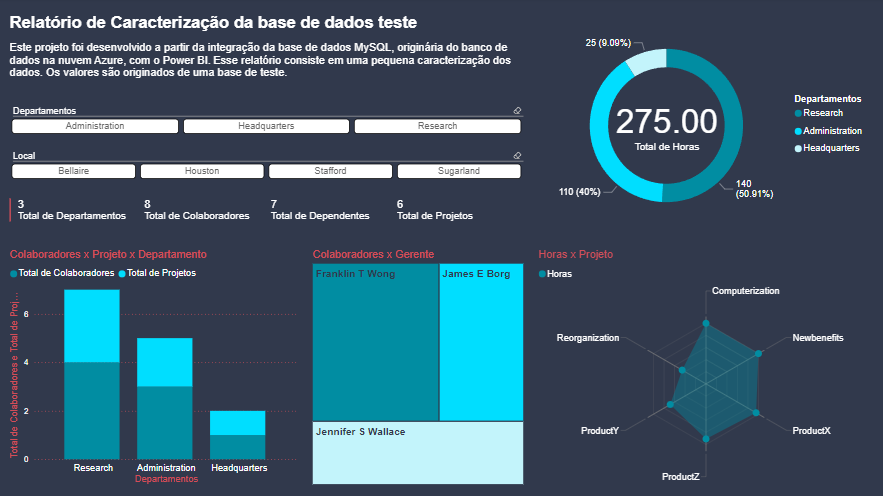

Layout of this report page (visuals, bound fields, positions):
{"tool":"powerbi","page":{"name":"Página 1","canvas":[1280,720],"ordinal":0},"visuals":[{"type":"treemap","title":"Colaboradores x Gerente","fields":{"Group":["employee_x_manager.Mesclado"],"Values":["employee_x_manager.Contagem"]},"box":[447.8,360,313.9,345.6],"z":0},{"type":"columnChart","title":"Colaboradores x Projeto x Departamento","fields":{"Y":["employee_x_departament.Employee","azure_company project.Pname"],"Category":["employee_x_departament.Dname"]},"box":[11.5,360,424.8,345.6],"z":1000},{"type":"ChicletSlicer1448559807354","fields":{"Category":["department_x_dept_location.Dname"]},"box":[11.5,149.8,750.2,59],"z":2000},{"type":"ChicletSlicer1448559807354","fields":{"Category":["department_x_dept_location.Dlocation"]},"box":[11.5,214.6,750.2,63.4],"z":3000},{"type":"textbox","box":[11.5,15.8,750.2,126.7],"z":4000},{"type":"multiRowCard","fields":{"Values":["azure_company departament.Dname","employee_x_departament.Employee","azure_company dependent.Dependent_name","azure_company project.Pname"]},"box":[11.5,283.7,750.2,67.7],"z":5000},{"type":"donutChart","fields":{"Y":["work_on_x_departament.Hours"],"Category":["work_on_x_departament.Dname"]},"box":[773.3,15.8,492.5,335.5],"z":6000},{"type":"card","fields":{"Values":["work_on_x_departament.Hours"]},"box":[864,119.5,198.7,125.3],"z":7000},{"type":"RadarChart1446119667547","title":"Horas x Projeto","fields":{"Y":["hours_x_project_x_departament.Hours"],"Category":["hours_x_project_x_departament.Pname"]},"box":[773.3,360,492.5,345.6],"z":8000}]}

Visuals, with their boxes in screenshot pixels (x1, y1, x2, y2), scaled from the page's 1280x720 canvas onto the 883x496 screenshot:
"Colaboradores x Gerente" treemap: {"x1": 309, "y1": 248, "x2": 525, "y2": 486}
"Colaboradores x Projeto x Departamento" columnChart: {"x1": 8, "y1": 248, "x2": 301, "y2": 486}
ChicletSlicer1448559807354 - department_x_dept_location.Dname: {"x1": 8, "y1": 103, "x2": 525, "y2": 144}
ChicletSlicer1448559807354 - department_x_dept_location.Dlocation: {"x1": 8, "y1": 148, "x2": 525, "y2": 192}
textbox: {"x1": 8, "y1": 11, "x2": 525, "y2": 98}
multiRowCard - azure_company departament.Dname x employee_x_departament.Employee: {"x1": 8, "y1": 195, "x2": 525, "y2": 242}
donutChart - work_on_x_departament.Hours x work_on_x_departament.Dname: {"x1": 533, "y1": 11, "x2": 873, "y2": 242}
card - work_on_x_departament.Hours: {"x1": 596, "y1": 82, "x2": 733, "y2": 169}
"Horas x Projeto" RadarChart1446119667547: {"x1": 533, "y1": 248, "x2": 873, "y2": 486}
